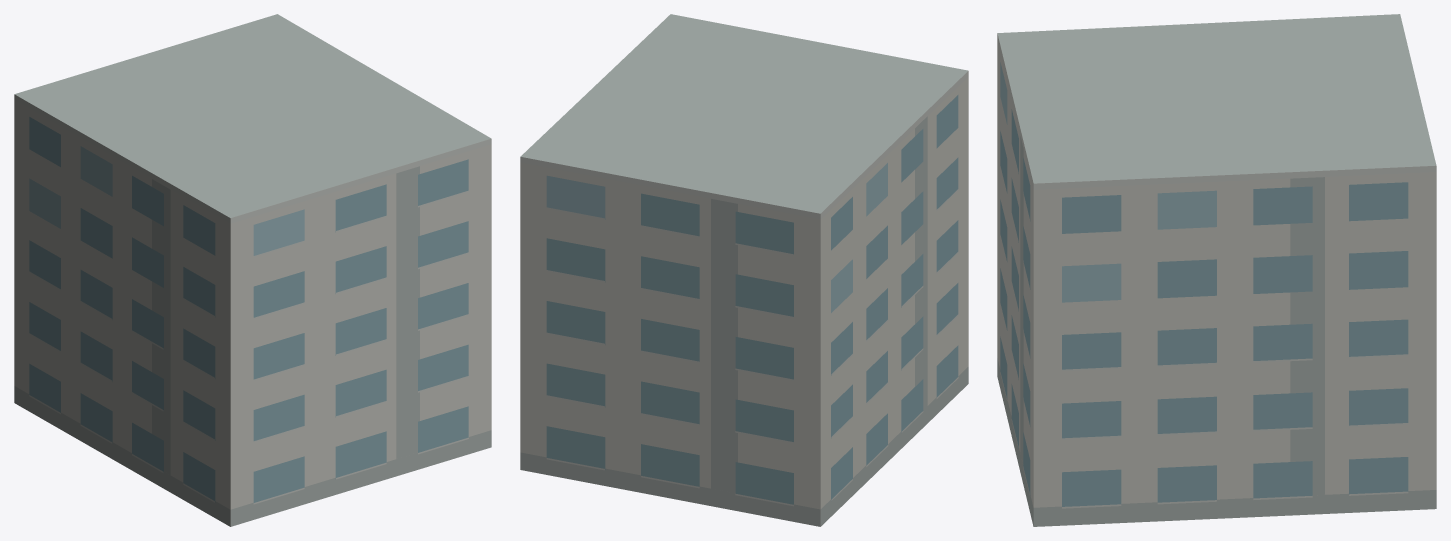
The model's file is survey-upis-32846136.glb.
3 views of the same model, side by side, from view 1: azimuth 30°, elevation 25°; view 2: azimuth 150°, elevation 25°; view 3: azimuth 270°, elevation 25° (orthographic). The views are drawn at different scales.
Visible parts, largest first — view 1: survey-upis-32846136.tmp; view 2: survey-upis-32846136.tmp; view 3: survey-upis-32846136.tmp.
Boxes of the visible parts, x1,y1,x2,y2 form: survey-upis-32846136.tmp: (14, 14, 491, 526); survey-upis-32846136.tmp: (520, 14, 968, 526); survey-upis-32846136.tmp: (997, 14, 1436, 526).
Bounding box in the file's own units: 13.89 × 13.1 × 15.2.
